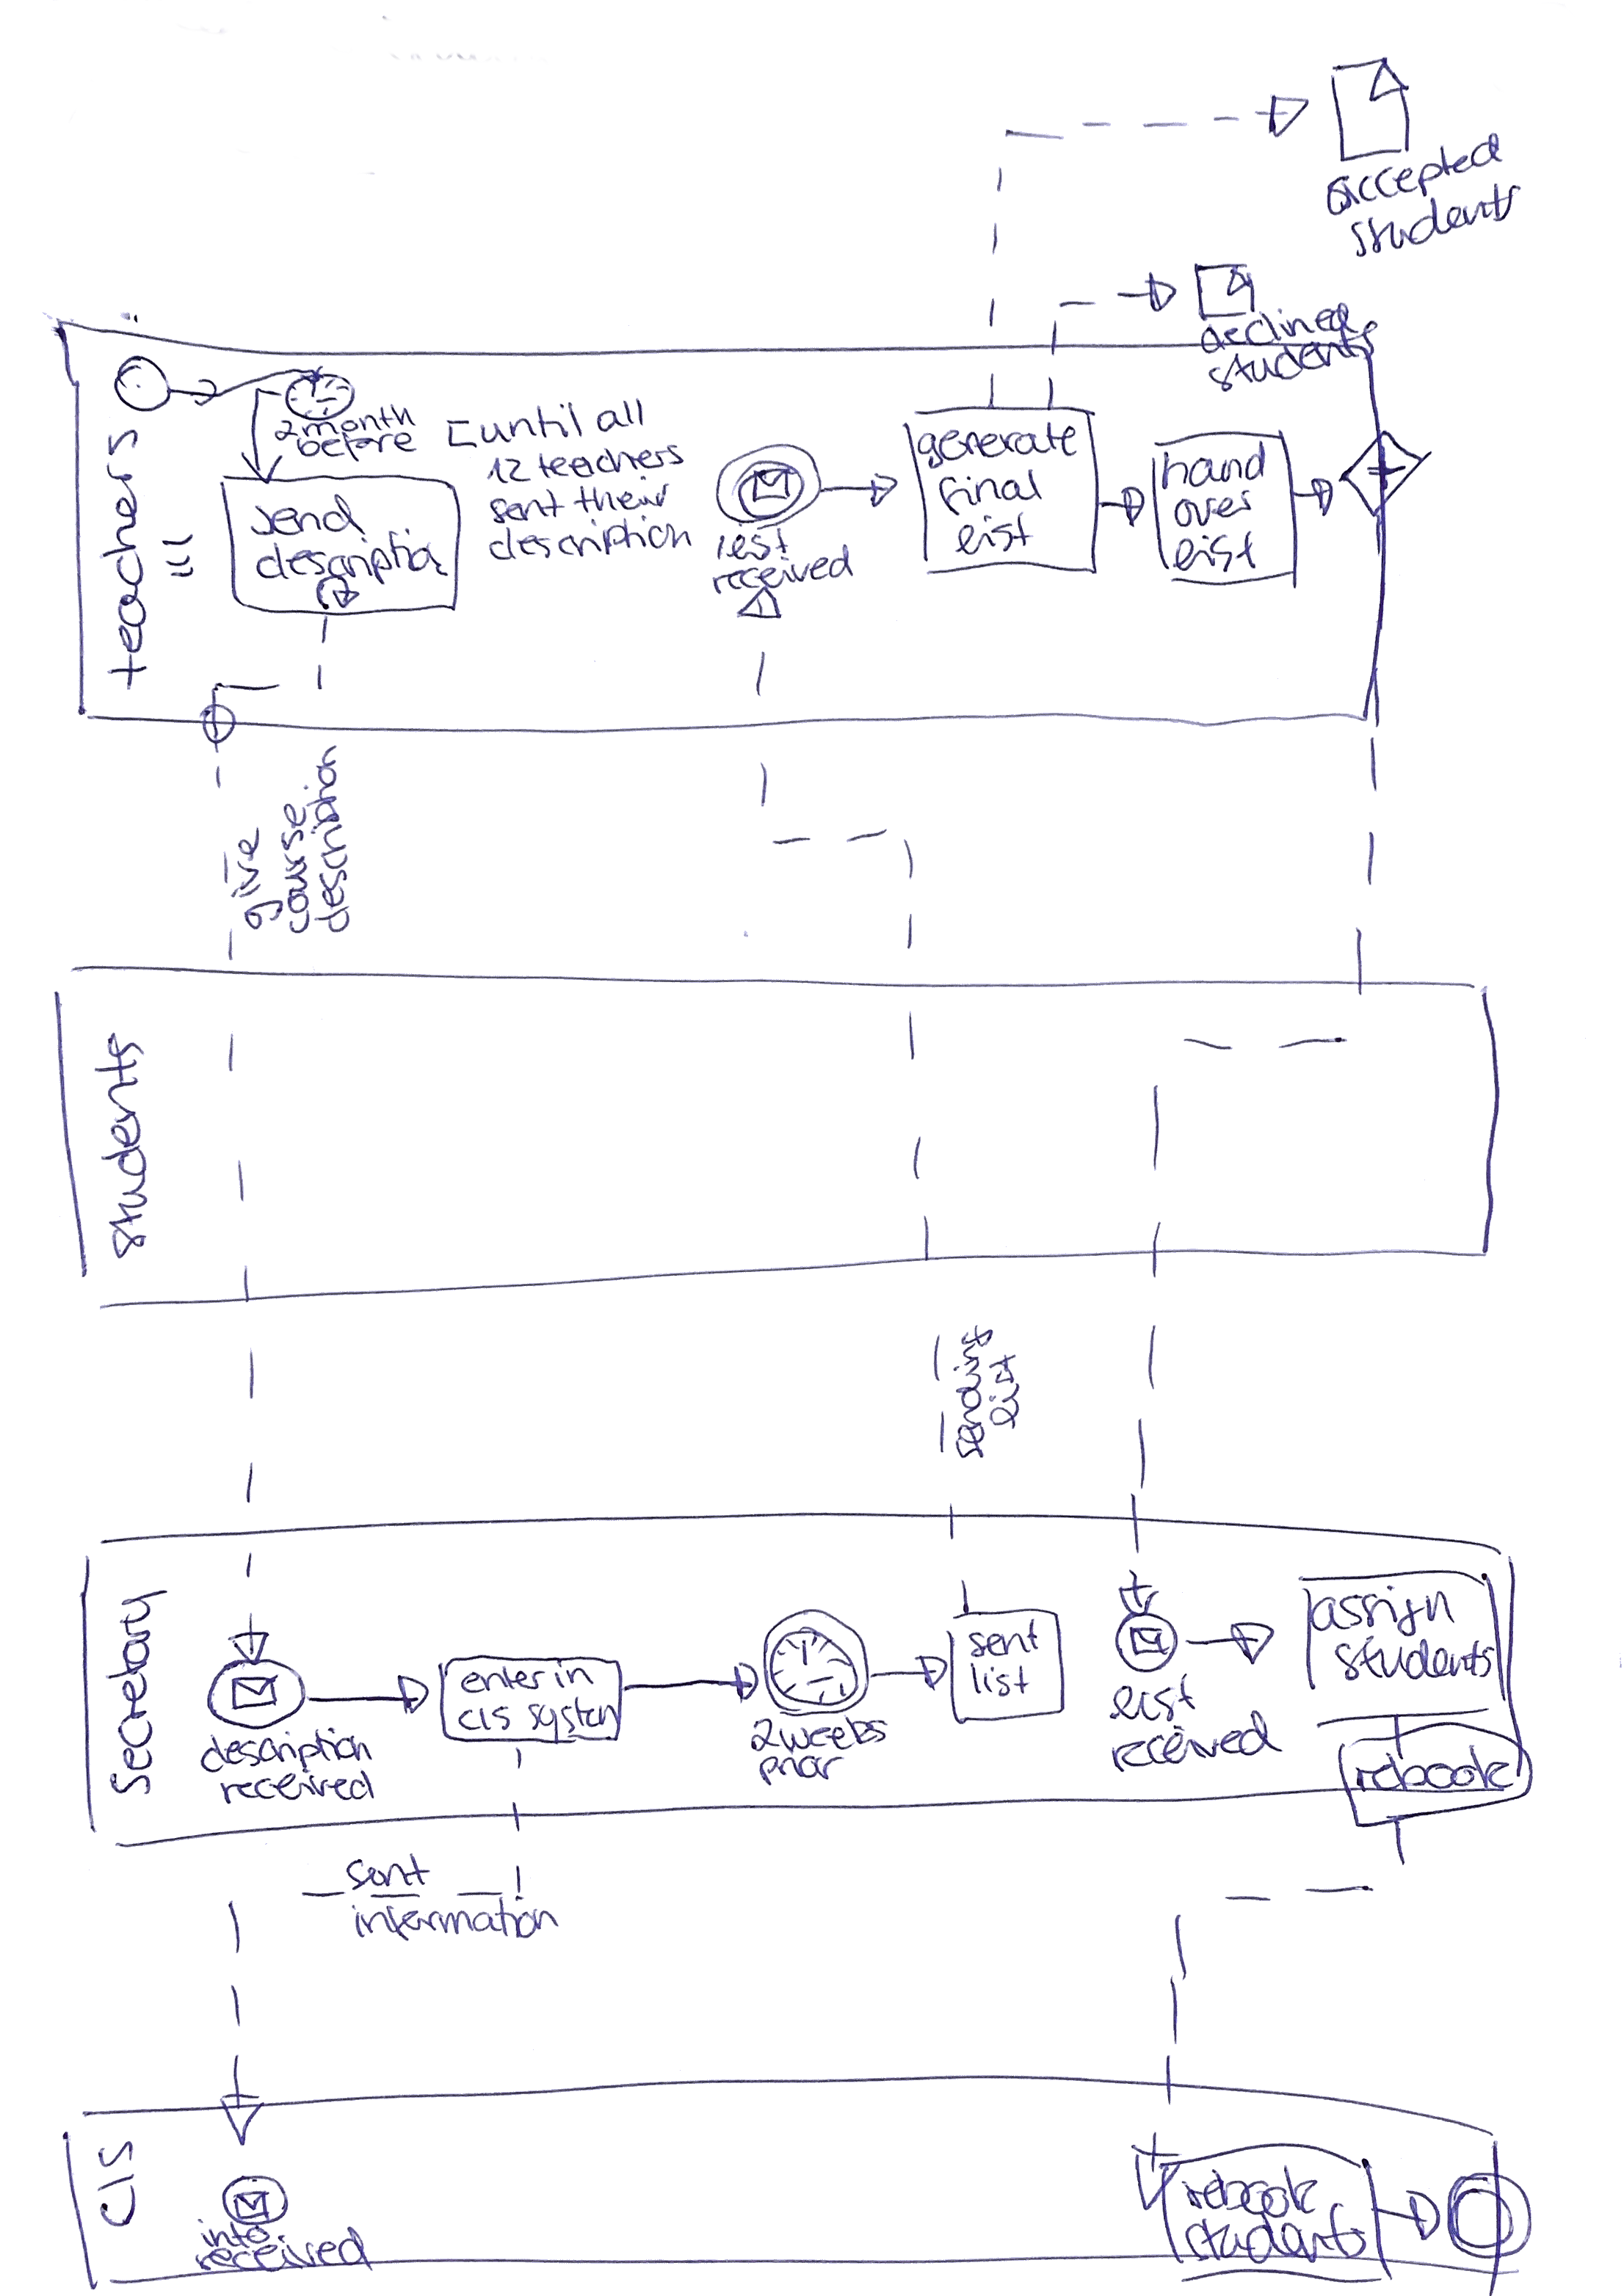12: (487, 454, 531, 485)
2: (751, 1715, 780, 1754), (275, 419, 299, 438)
CIS: (94, 2140, 142, 2223), (457, 1703, 512, 1734)
III: (160, 531, 195, 581)
Secretary: (107, 1590, 164, 1792)
accepted: (1322, 178, 1502, 219)
all: (597, 399, 645, 432)
assign: (1312, 1587, 1456, 1636)
before: (296, 434, 418, 459)
course: (281, 802, 308, 935)
declined: (1195, 325, 1351, 366)
description: (255, 542, 446, 594), (485, 528, 690, 568), (303, 743, 344, 934), (202, 1728, 371, 1771)
enter: (463, 1664, 544, 1697)
final: (939, 470, 1043, 515)
generate: (917, 432, 1077, 468)
give: (231, 829, 282, 928)
hand: (1161, 448, 1264, 487)
in: (550, 1662, 595, 1690)
information: (349, 1896, 559, 1940)
into: (195, 2219, 275, 2249)
lest: (713, 523, 786, 559)
list: (1107, 1674, 1195, 1721), (1172, 531, 1258, 572), (954, 519, 1032, 553), (990, 1355, 1021, 1428), (967, 1662, 1031, 1698)
month: (300, 423, 418, 444)
over: (1174, 488, 1253, 525)
prior: (761, 1751, 841, 1786)
rebook: (1183, 2165, 1318, 2212), (1355, 1747, 1512, 1787)
received: (1106, 1731, 1275, 1775), (195, 2245, 367, 2282), (220, 1769, 375, 1804), (710, 570, 855, 598)
send: (246, 509, 357, 551)
sending: (953, 1317, 991, 1458)
sent: (346, 1855, 429, 1892), (965, 1621, 1040, 1657), (487, 492, 565, 523)
students: (95, 1034, 146, 1257), (1180, 2208, 1369, 2261), (1344, 214, 1521, 258), (1206, 366, 1384, 405), (1333, 1639, 1496, 1679)
system: (525, 1701, 617, 1739)
teachers: (101, 429, 146, 690), (536, 451, 682, 479)
their: (574, 476, 670, 512)
until: (444, 407, 582, 456)
weeks: (779, 1718, 892, 1749)
